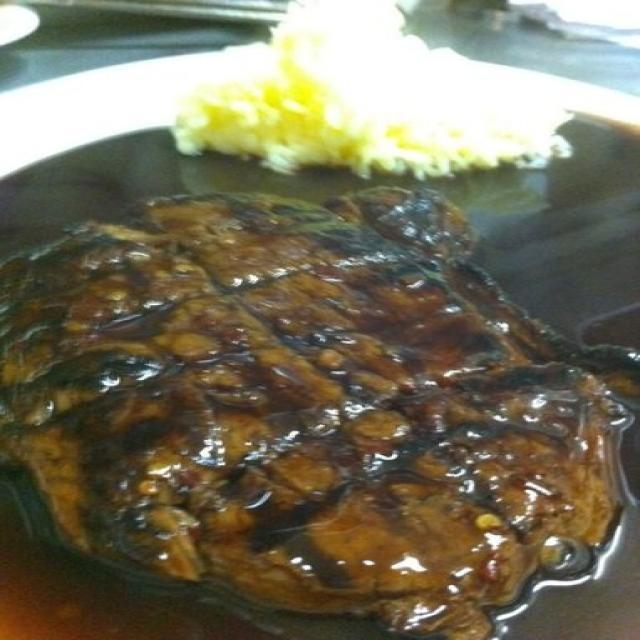Steak: (27, 209, 622, 624)
